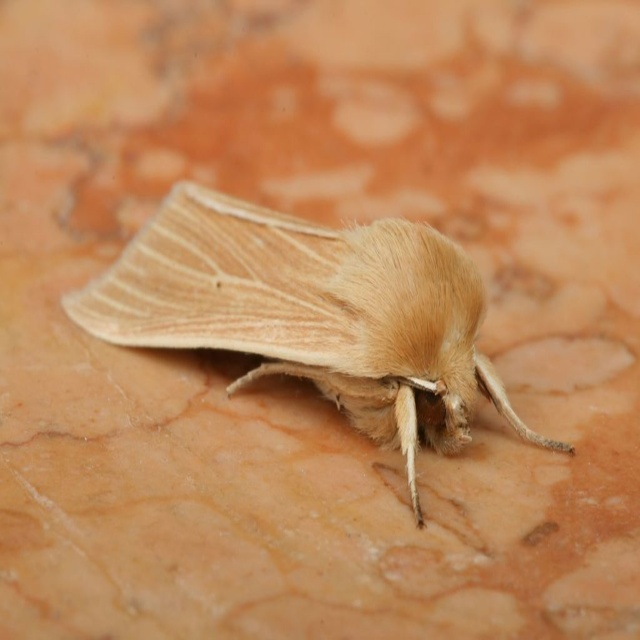Moths and butterflies: (62, 172, 577, 528)
